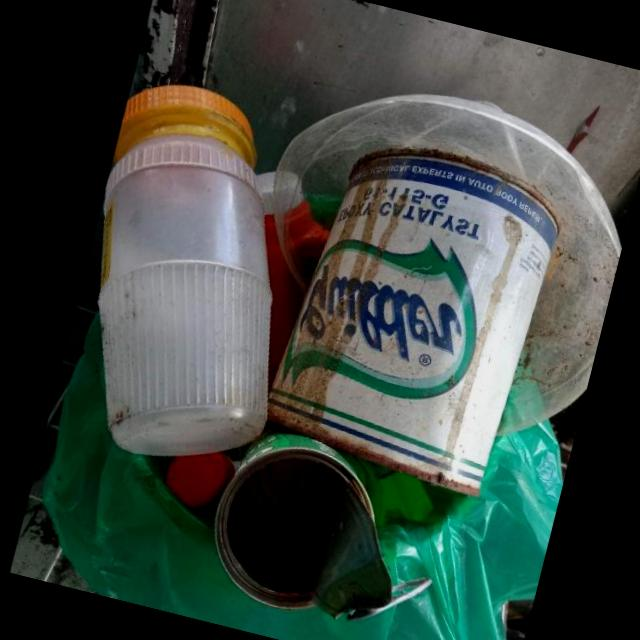chai_nhua: (97, 85, 272, 458), (256, 171, 329, 386), (164, 452, 235, 512)
nhom: (265, 147, 559, 497), (213, 433, 431, 622)
